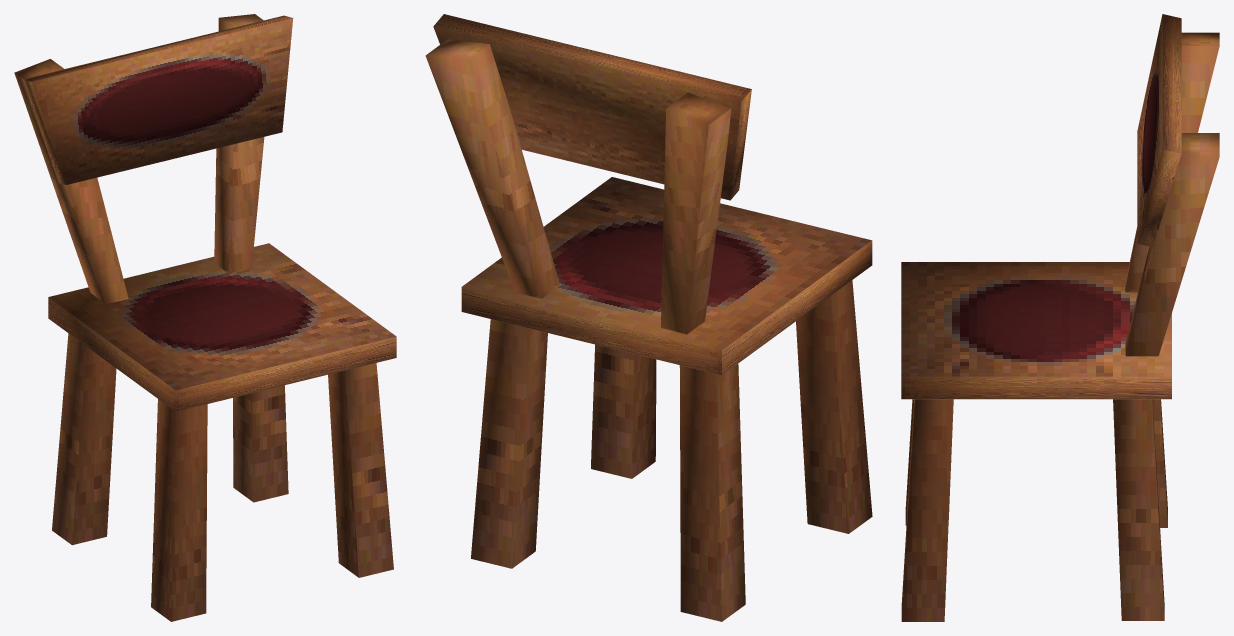
The model's file is CHAIR_ACTORDEF.fbx.
3 views of the same model, side by side, from view 1: azimuth 30°, elevation 25°; view 2: azimuth 150°, elevation 25°; view 3: azimuth 270°, elevation 25° (orthographic). The views are drawn at different scales.
Parts seen in each view (by area): view 1: U3DMesh; view 2: U3DMesh; view 3: U3DMesh.
Part boxes in pixels (x1=…): U3DMesh: x1=14, y1=14, x2=396, y2=621; U3DMesh: x1=425, y1=14, x2=872, y2=621; U3DMesh: x1=901, y1=14, x2=1219, y2=621.
Bounding box in the file's own units: 2.96 × 4.93 × 2.94.
